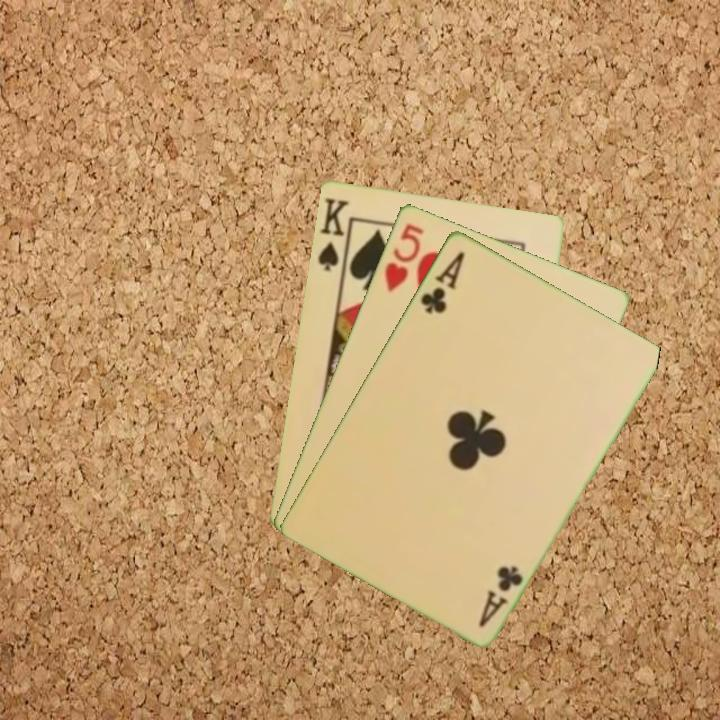5h: (380, 219, 426, 295)
Ac: (416, 247, 468, 316), (474, 561, 526, 629)
Ks: (314, 193, 351, 274)
